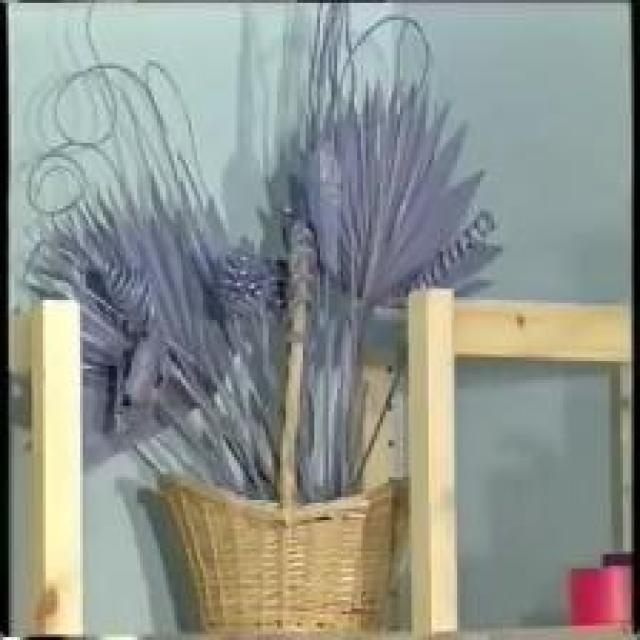other: (28, 301, 102, 587)
